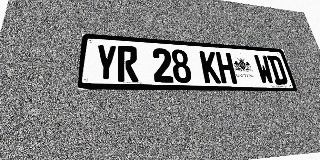2: (152, 48, 173, 83)
8: (170, 49, 192, 83)
D: (267, 55, 289, 85)
H: (215, 52, 237, 84)
K: (199, 51, 221, 83)
R: (117, 45, 138, 82)
W: (253, 54, 275, 84)
Y: (94, 44, 117, 82)
